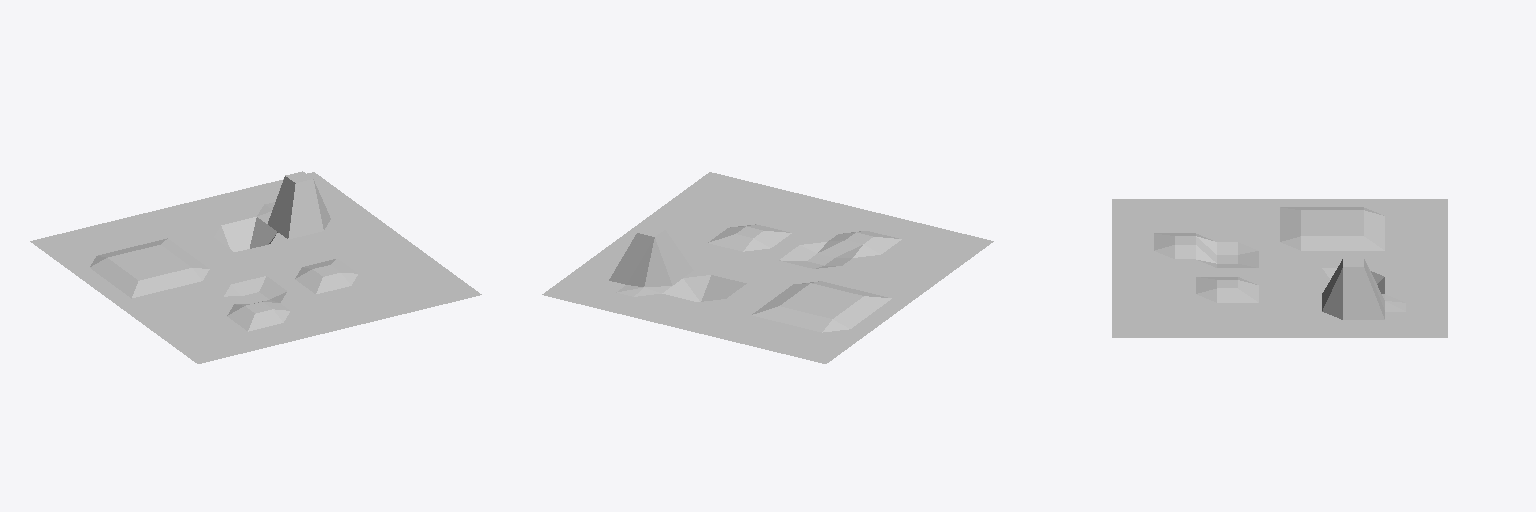
The model's file is terrain.obj.
The picture shows the model from 3 angles: view 1: azimuth 30°, elevation 25°; view 2: azimuth 150°, elevation 25°; view 3: azimuth 270°, elevation 25°; orthographic projection.
Visible parts, largest first — view 1: Plane; view 2: Plane; view 3: Plane.
Part boxes in pixels (x1,y1,x2,y2): Plane: (30,171,481,363); Plane: (542,172,993,363); Plane: (1112,199,1447,337).
Size of the model in its own units: 15.98 by 3.46 by 16.36.